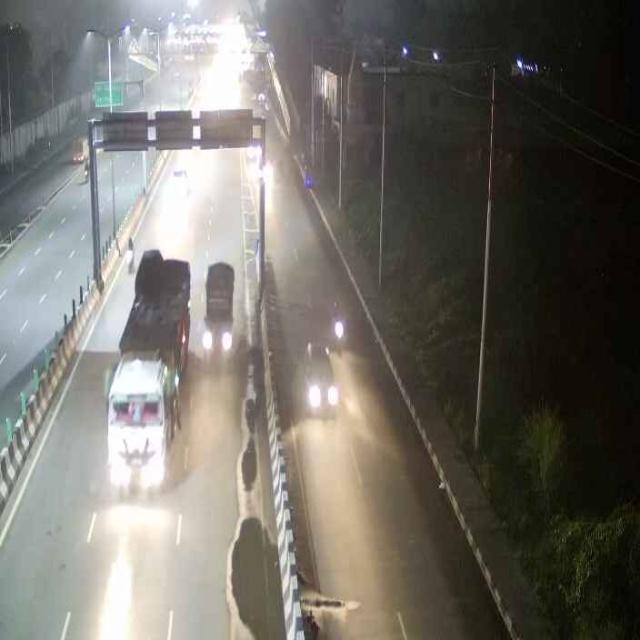car: (197, 256, 241, 362), (301, 347, 343, 417)
